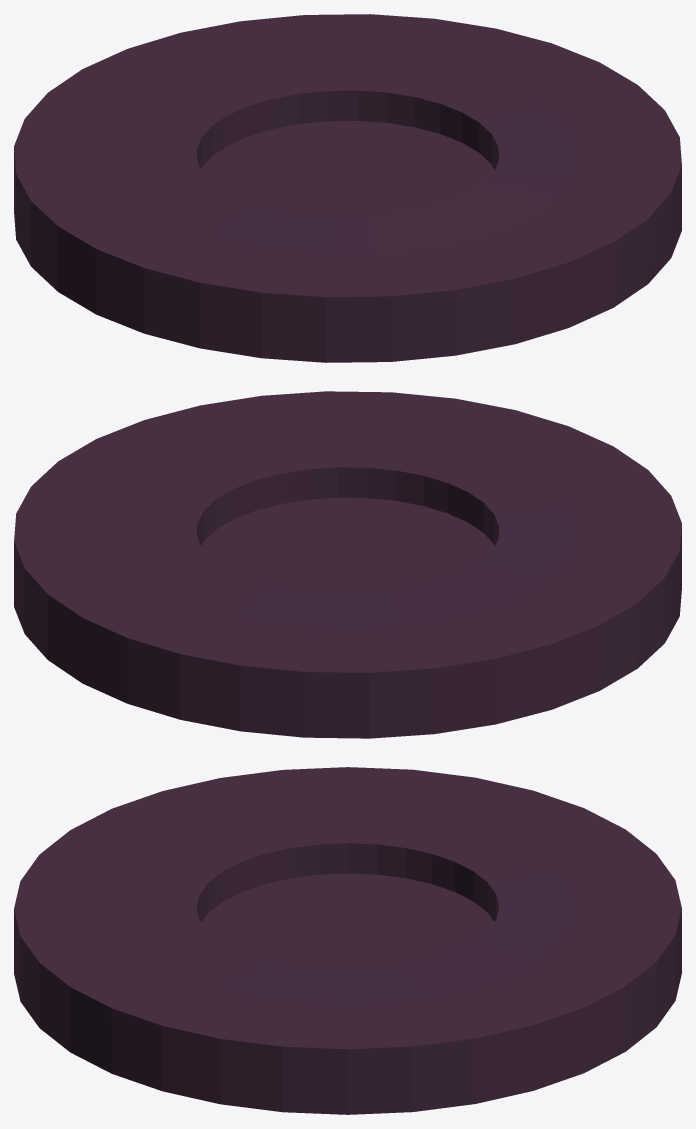
Rendered from joystick_base.fbx.
3 renders of one model, top to bottom at view 1: azimuth 30°, elevation 25°; view 2: azimuth 150°, elevation 25°; view 3: azimuth 270°, elevation 25°, orthographic.
Visible parts, largest first — view 1: Cylinder.006; view 2: Cylinder.006; view 3: Cylinder.006.
Part boxes in pixels (<box>): Cylinder.006: <box>14,14,681,362</box>; Cylinder.006: <box>14,391,681,738</box>; Cylinder.006: <box>14,767,681,1114</box>.
Size of the model in its own units: 38.63 by 4.29 by 38.64.
